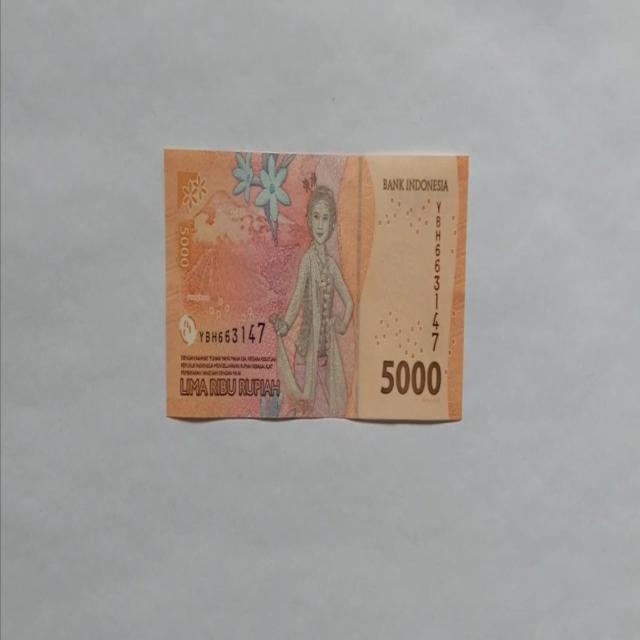lima ribu rupiah: (163, 148, 469, 424), (268, 184, 355, 418)
